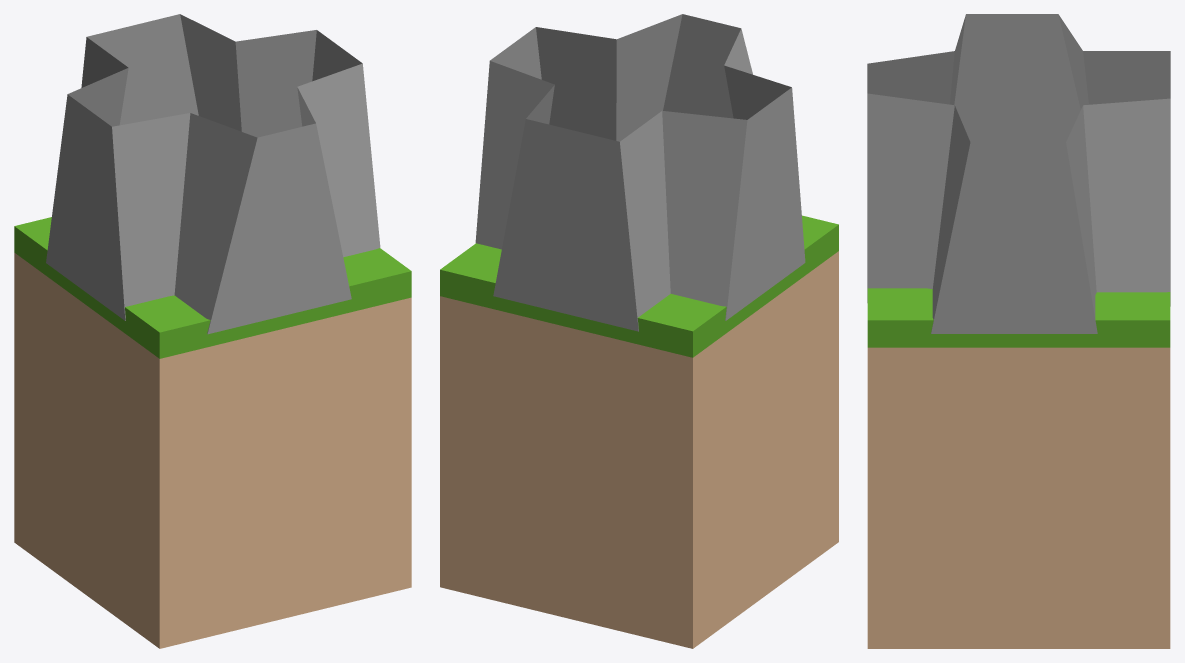
Rendered from Mountains4.fbx.
The picture shows the model from 3 angles, left to right: view 1: azimuth 30°, elevation 25°; view 2: azimuth 150°, elevation 25°; view 3: azimuth 270°, elevation 25°; orthographic projection. The views are drawn at different scales.
Parts seen in each view (by area): view 1: Cube, Cylinder; view 2: Cube, Cylinder; view 3: Cube, Cylinder.
Part boxes in pixels (x1,y1,x2,y2): Cube: [14, 217, 411, 648]; Cylinder: [46, 14, 380, 334]; Cube: [440, 215, 838, 648]; Cylinder: [475, 14, 805, 331]; Cube: [867, 288, 1170, 648]; Cylinder: [867, 14, 1170, 333].
Size of the model in its own units: 100 by 185 by 100.
